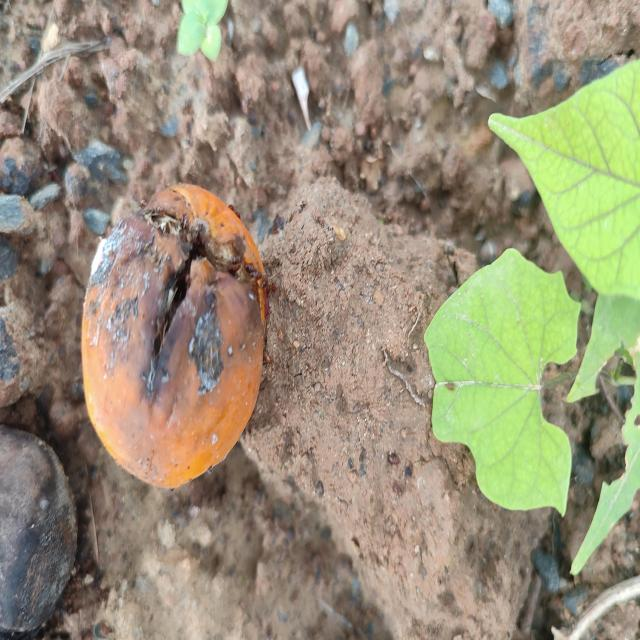damaged: (79, 183, 274, 492)
